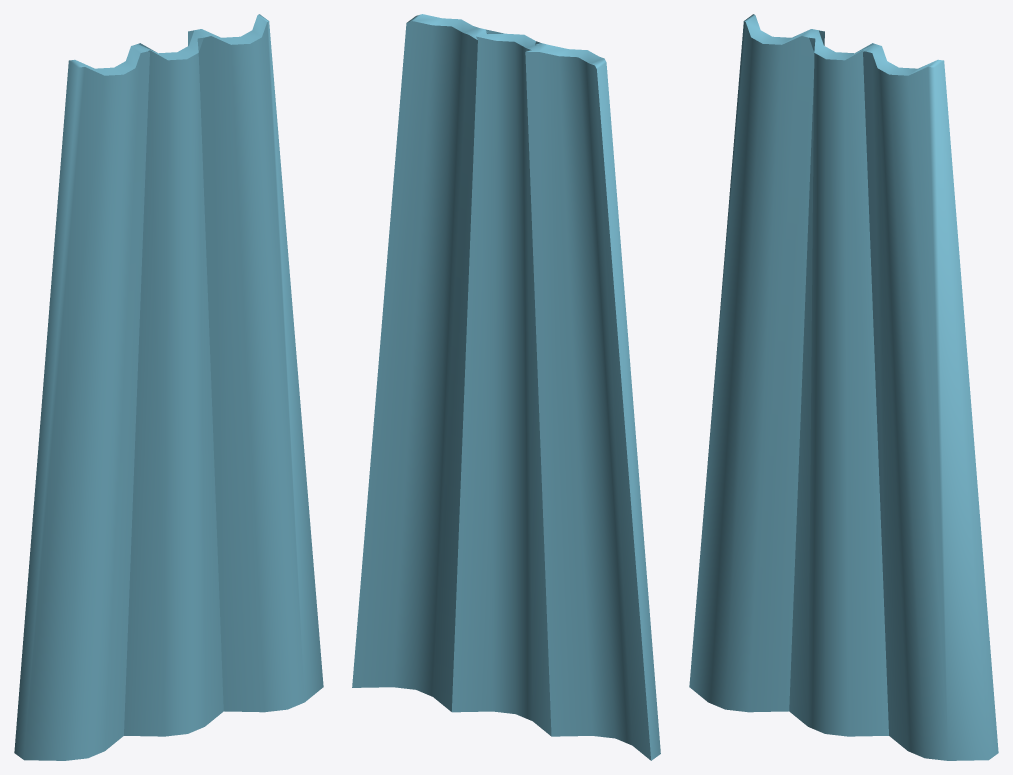
The model's file is Curtains (Blue).fbx.
3 views of the same model, side by side, from view 1: azimuth 30°, elevation 25°; view 2: azimuth 150°, elevation 25°; view 3: azimuth 330°, elevation 25° (orthographic).
Parts seen in each view (by area): view 1: Curtains (Blue); view 2: Curtains (Blue); view 3: Curtains (Blue).
Part boxes in pixels (x1,y1,x2,y2): Curtains (Blue): [14, 14, 323, 760]; Curtains (Blue): [352, 14, 660, 760]; Curtains (Blue): [689, 14, 998, 760].
Bounding box in the file's own units: 132 × 287 × 18.19.
